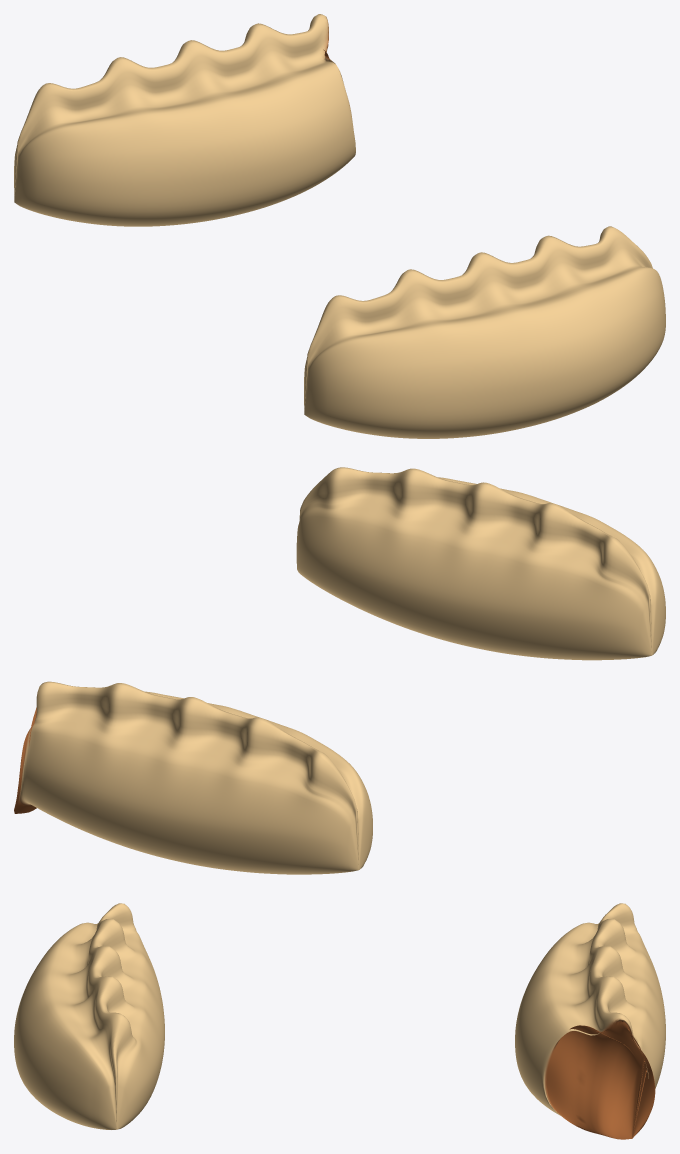
The model's file is potsticker.glb.
3 renders of one model, top to bottom at view 1: azimuth 30°, elevation 25°; view 2: azimuth 150°, elevation 25°; view 3: azimuth 270°, elevation 25°, orthographic. The views are drawn at different scales.
Visible parts, largest first — view 1: PotstickerBody, PotstickerBitten; view 2: PotstickerBody, PotstickerBitten; view 3: PotstickerBitten, PotstickerBody.
Boxes of the visible parts, box(x1,y1,x2,y2) form: PotstickerBody: box(304, 226, 665, 438); PotstickerBitten: box(14, 14, 355, 226); PotstickerBody: box(296, 467, 665, 660); PotstickerBitten: box(14, 681, 372, 874); PotstickerBitten: box(515, 903, 665, 1139); PotstickerBody: box(14, 903, 164, 1129).
Size of the model in its own units: 0.7015 by 0.2914 by 1.3.
